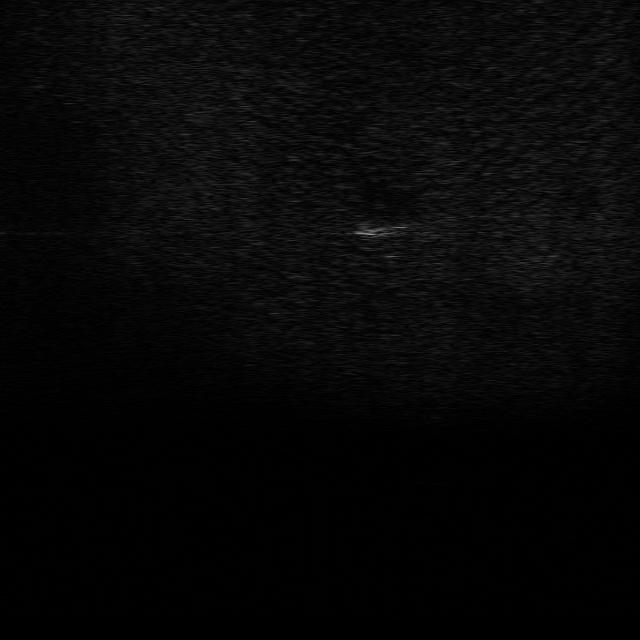plane: (349, 214, 429, 246)
